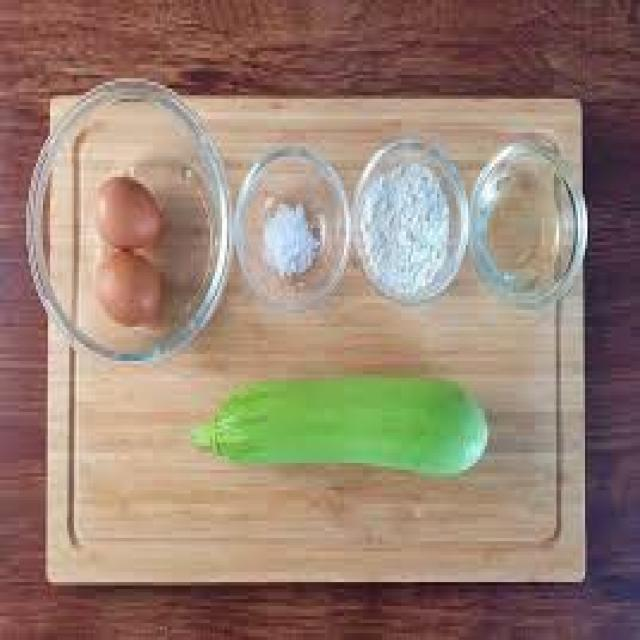zucchini: (186, 368, 506, 510)
